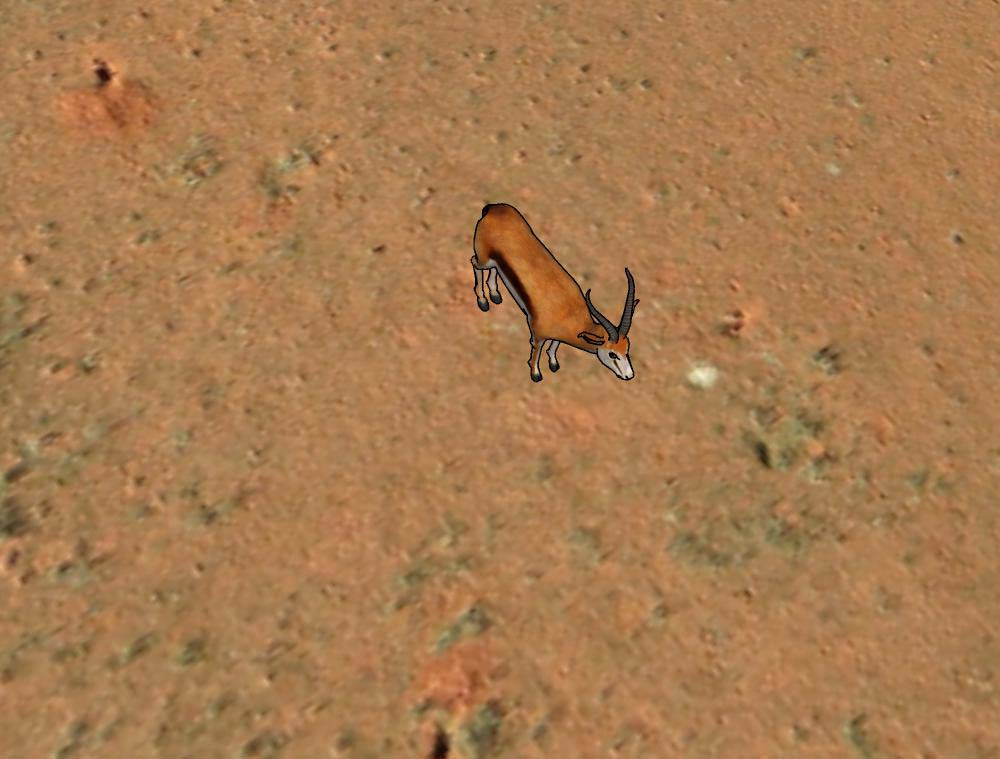springbok: (464, 195, 646, 403)
